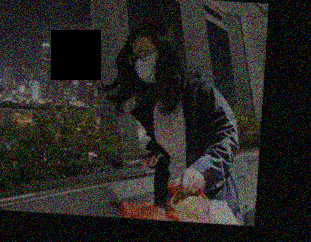with_mask: (130, 45, 157, 83)
